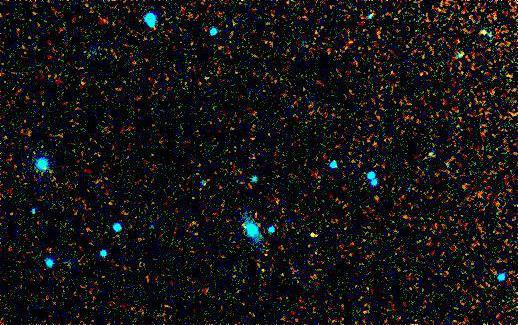star: (297, 219, 327, 249)
